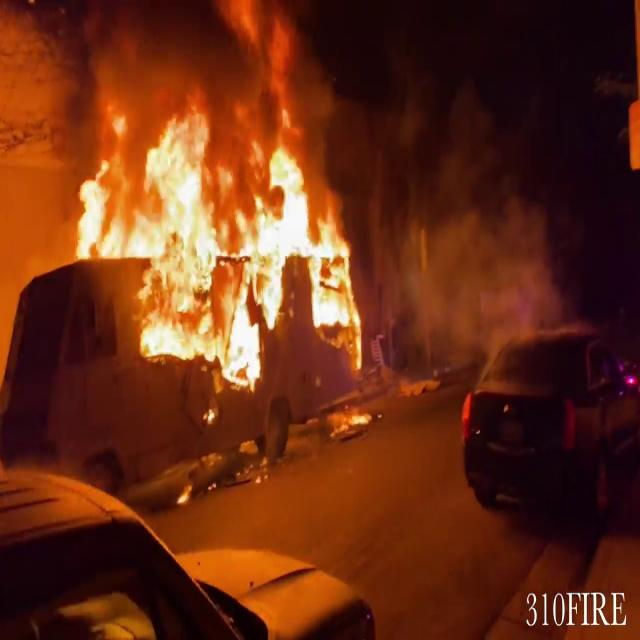Fire: (71, 20, 375, 382)
Smoke: (352, 50, 567, 363)
